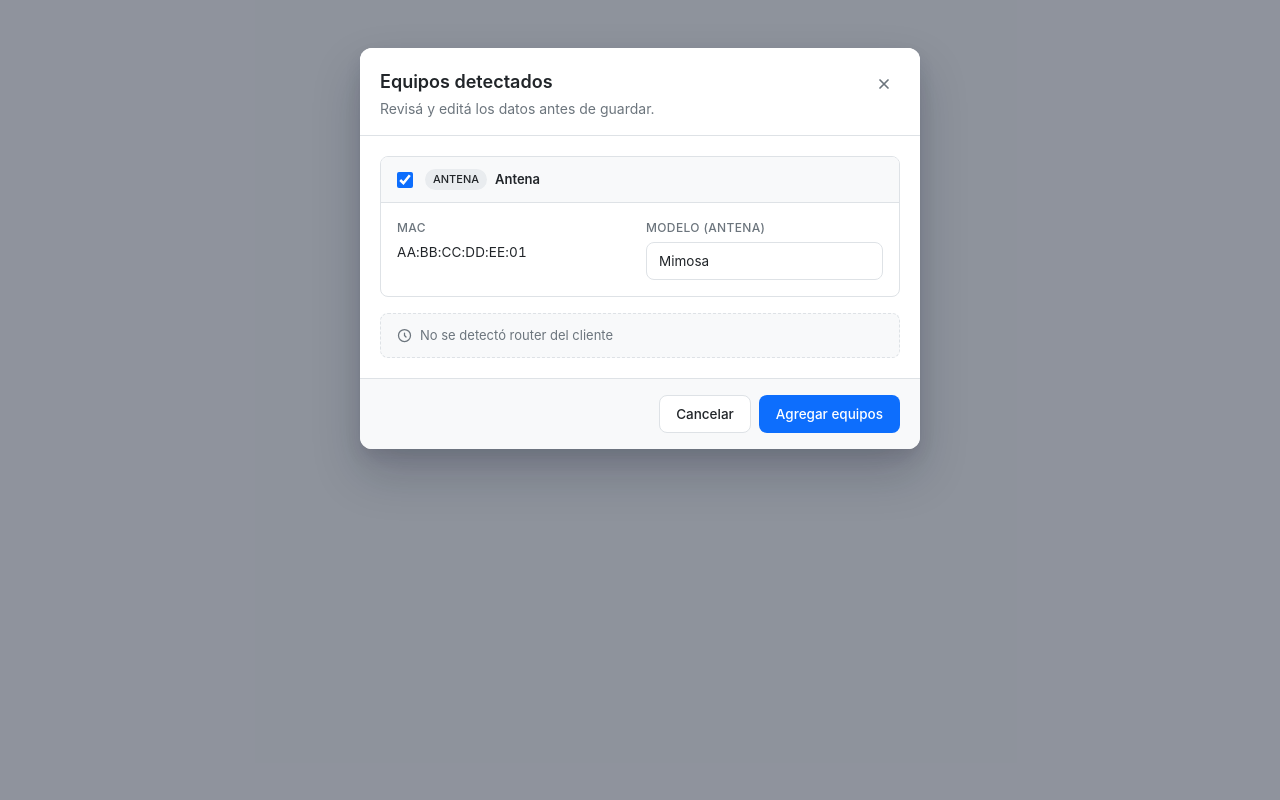
it: AddByPppoeReviewModal › 409 SAME_TYPE → shows a decision step listing the candidate, never auto-decides
Click the button "Agregar equipos".
click(829, 414)  # box x1=759 y1=395 x2=900 y2=433
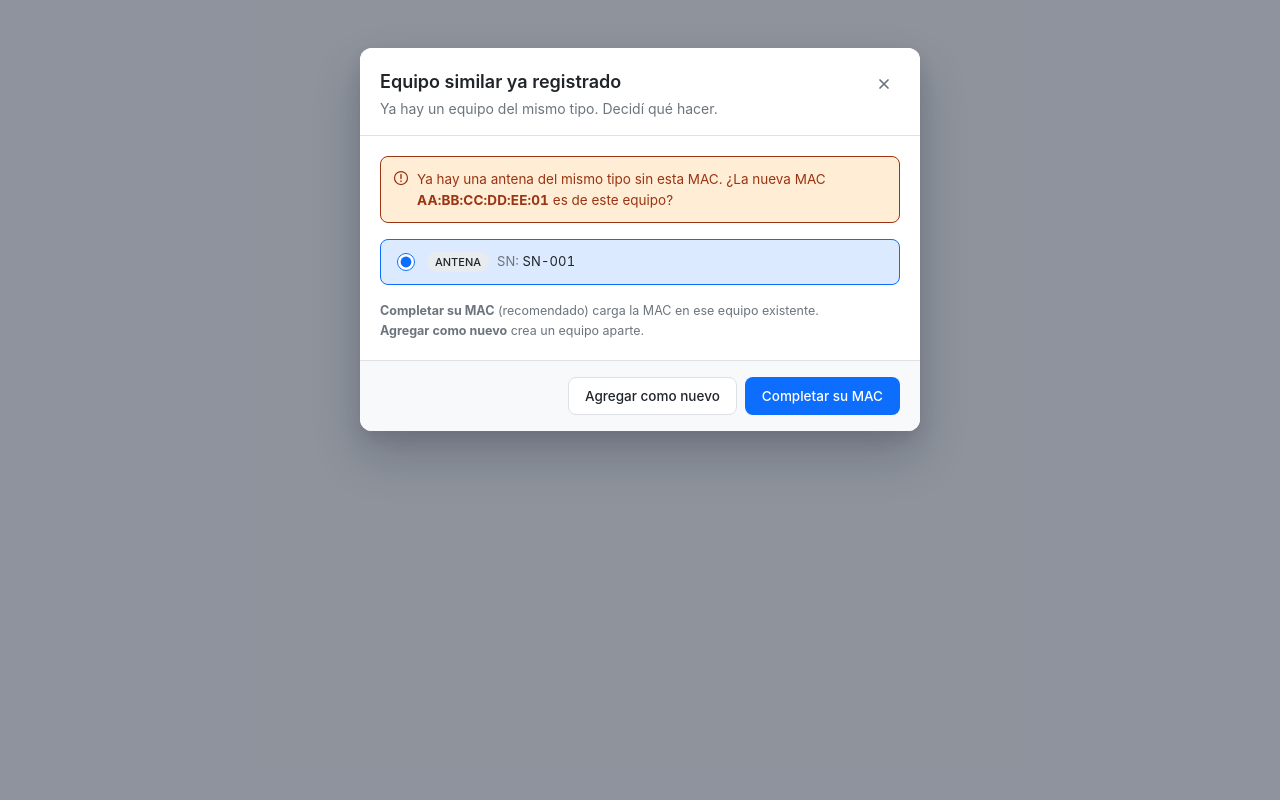
Expected: the text "SN-001" is shown, x1=523 y1=253 x2=575 y2=269
Expected: the button "Completar su MAC" is shown, x1=745 y1=377 x2=900 y2=415
Expected: the button "Agregar como nuevo" is shown, x1=568 y1=377 x2=737 y2=415
